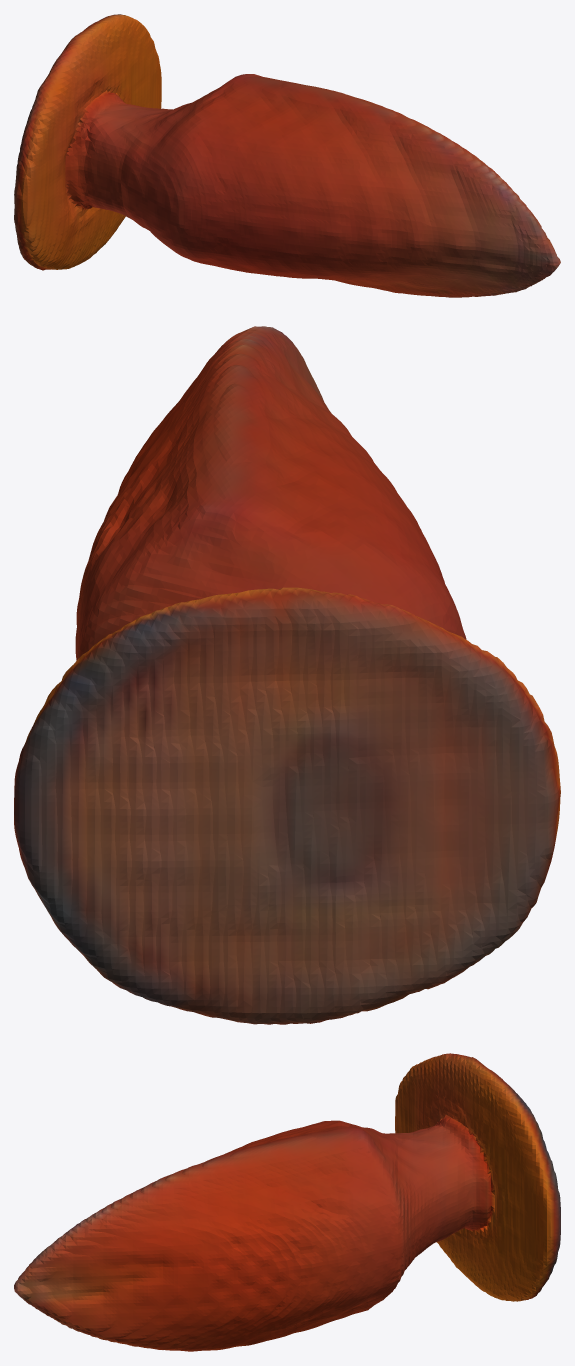
The picture shows the model from 3 angles, top to bottom: view 1: azimuth 30°, elevation 25°; view 2: azimuth 150°, elevation 25°; view 3: azimuth 270°, elevation 25°; orthographic projection. The views are drawn at different scales.
Bounding box in the file's own units: 0.7133 × 0.4557 × 1.
